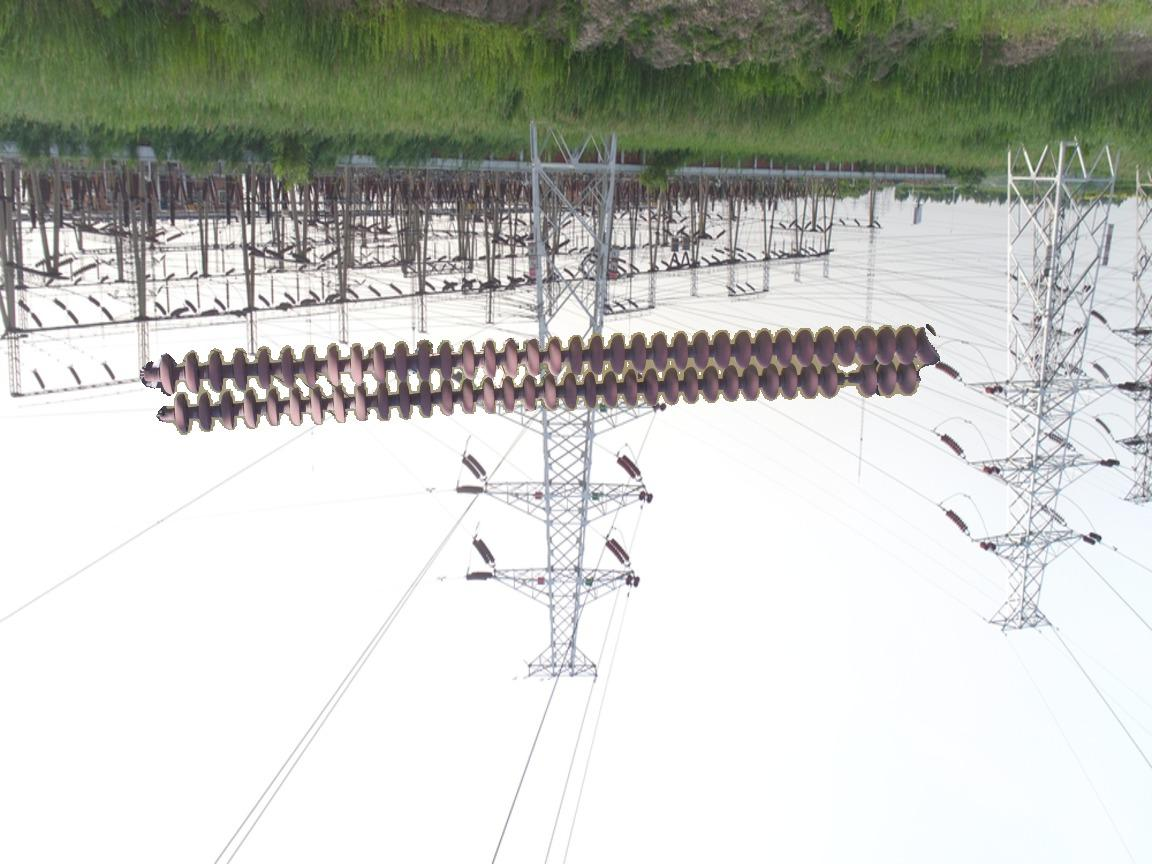insulator: (147, 315, 937, 436)
insulator_stringdrop: (818, 362, 881, 402)
